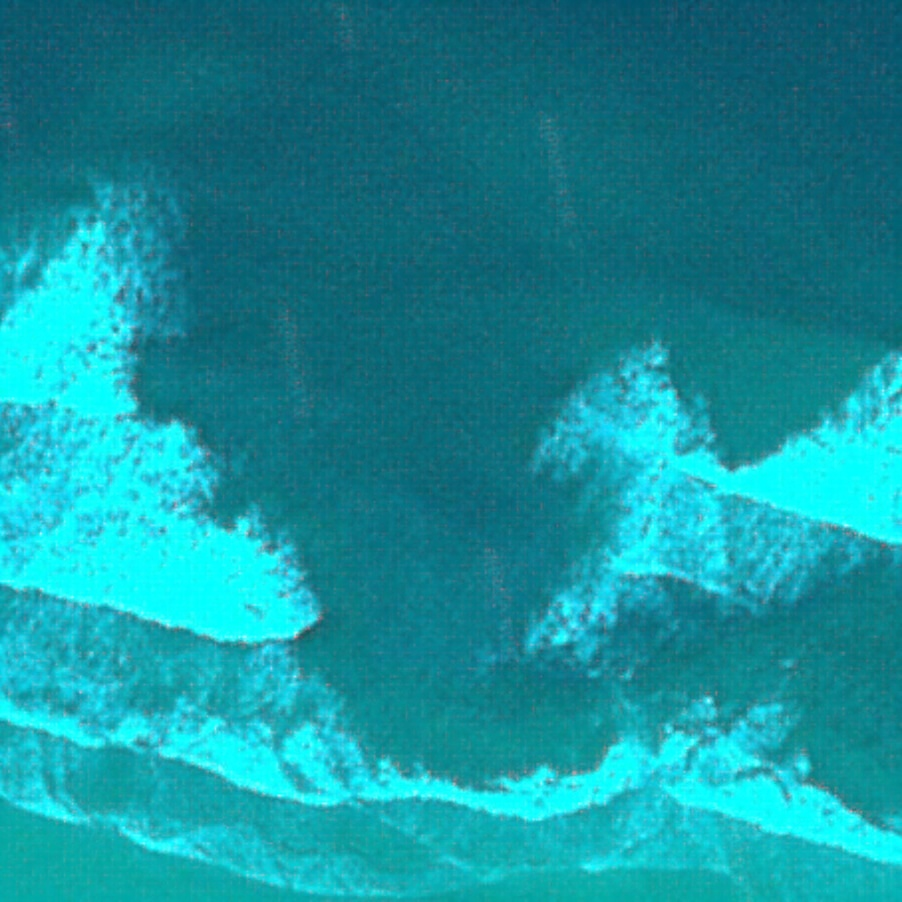rip_current: (110, 119, 648, 776)
